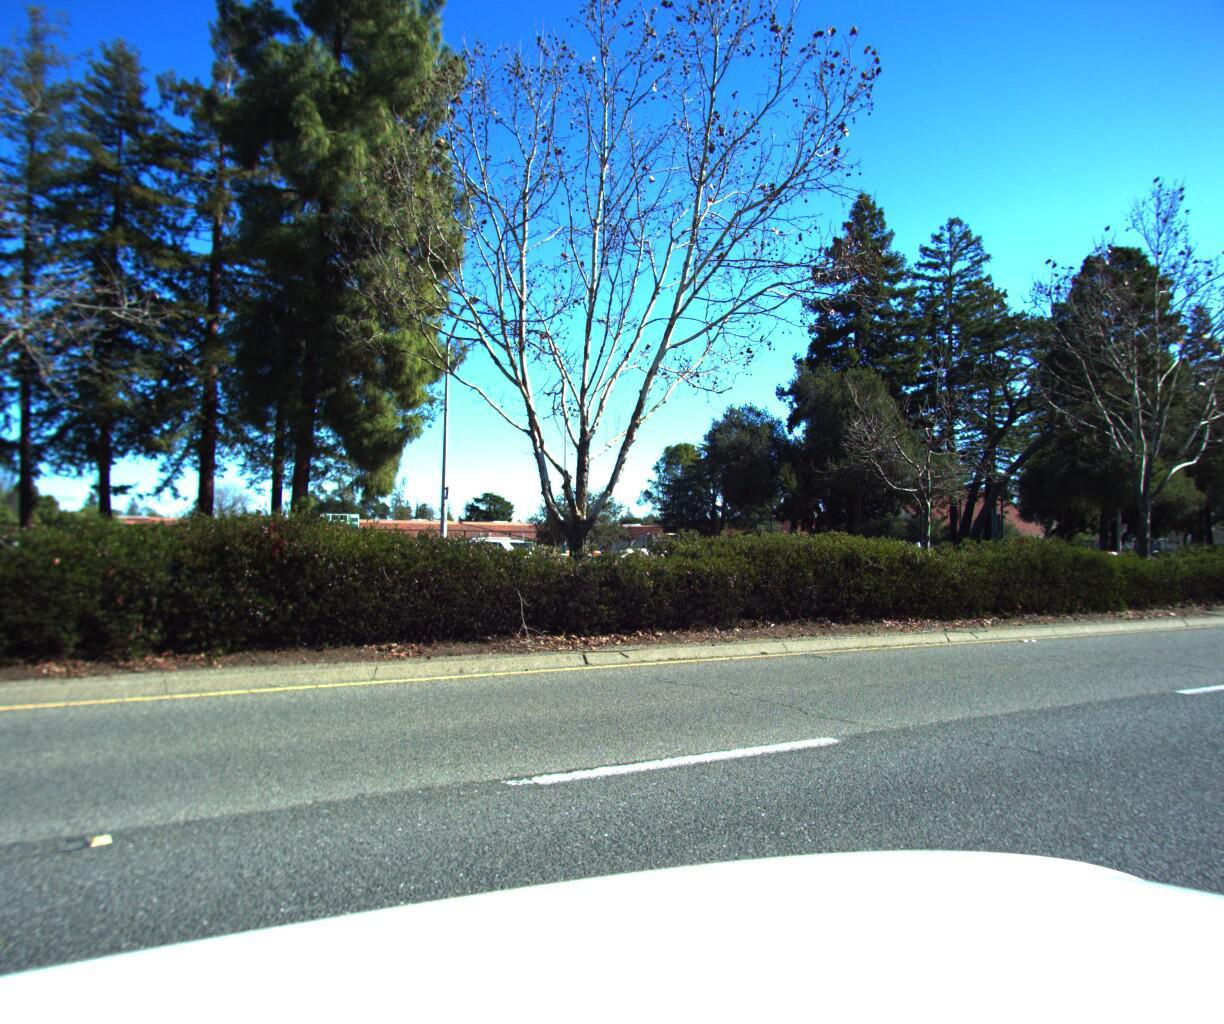car: (378, 534, 542, 601), (0, 542, 3, 619)
